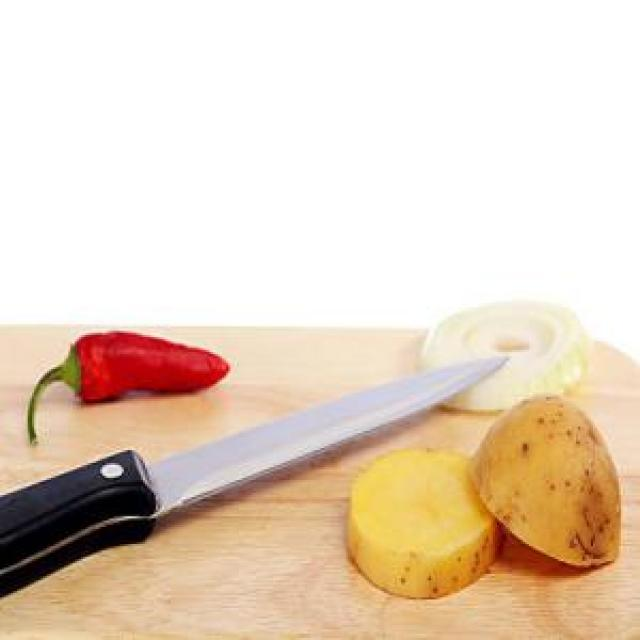knife: (0, 354, 511, 602)
